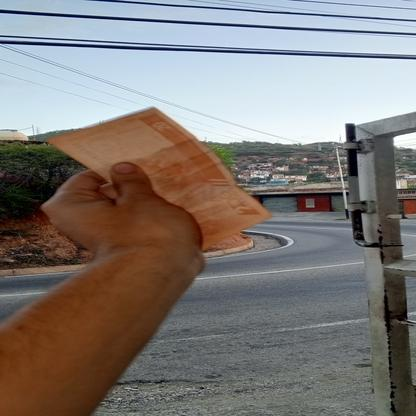twenty-back-vef: (43, 104, 272, 252)
